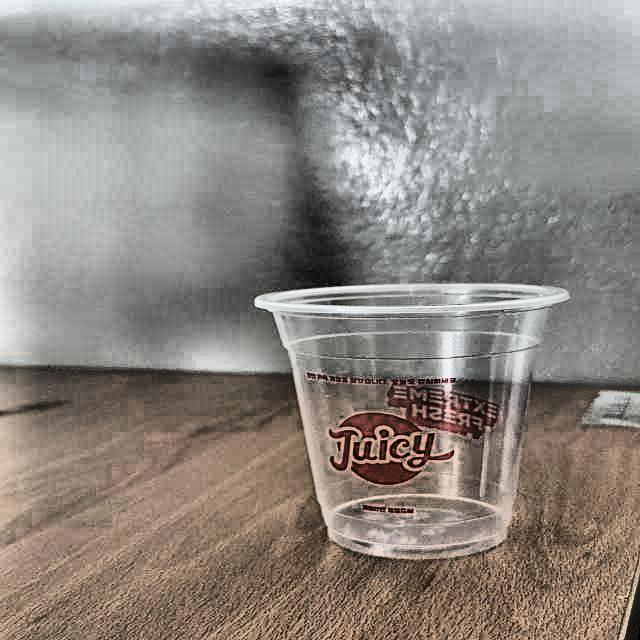plastic cup: (255, 282, 571, 560)
